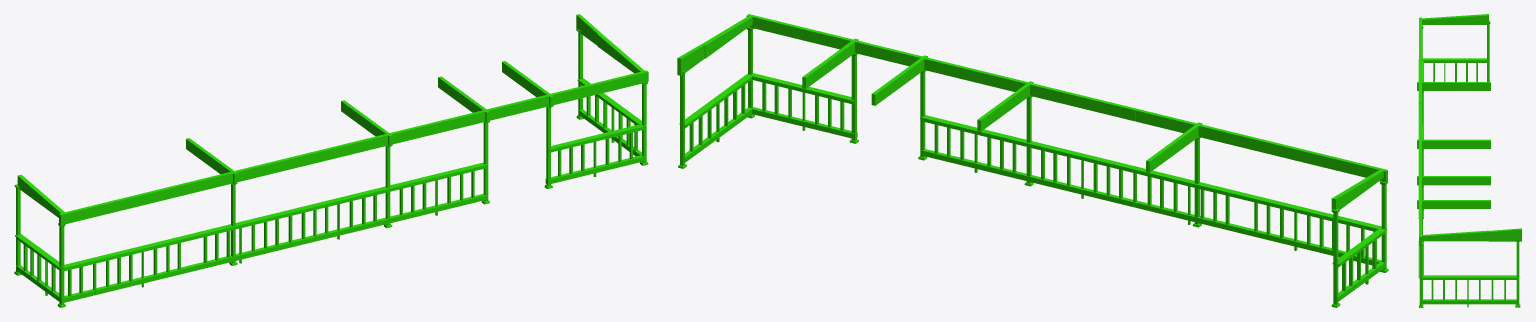
Rendered from H04_Front_01B.fbx.
The picture shows the model from 3 angles, left to right: view 1: azimuth 30°, elevation 25°; view 2: azimuth 150°, elevation 25°; view 3: azimuth 270°, elevation 25°; orthographic projection. The views are drawn at different scales.
Parts seen in each view (by area): view 1: H04_Front_01B; view 2: H04_Front_01B; view 3: H04_Front_01B.
Part boxes in pixels (<box>): H04_Front_01B: <box>14,14,648,307</box>; H04_Front_01B: <box>677,14,1388,307</box>; H04_Front_01B: <box>1417,14,1521,307</box>.
Bounding box in the file's own units: 1804 × 300 × 364.
